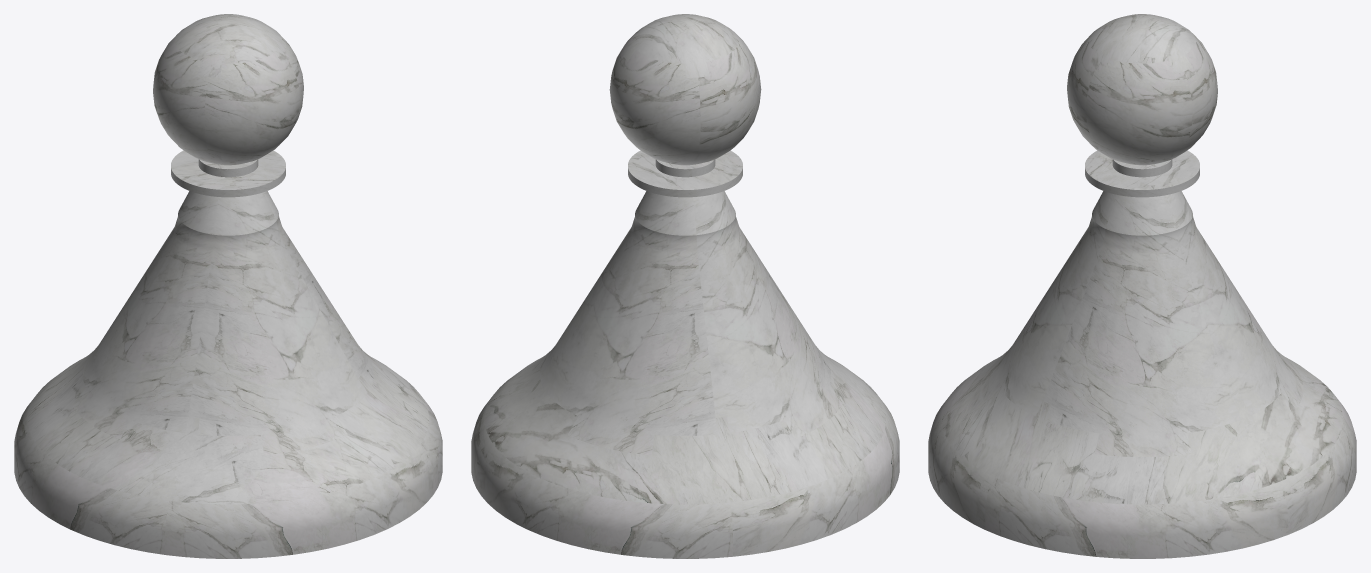
The model's file is ALL.gltf.
3 views of the same model, side by side, from view 1: azimuth 30°, elevation 25°; view 2: azimuth 150°, elevation 25°; view 3: azimuth 270°, elevation 25° (orthographic).
Parts seen in each view (by area): view 1: PawnBlack.001; view 2: PawnBlack.001; view 3: PawnBlack.001.
Part boxes in pixels (x1,y1,x2,y2): PawnBlack.001: [14, 14, 442, 558]; PawnBlack.001: [471, 14, 899, 558]; PawnBlack.001: [928, 14, 1356, 558].
Bounding box in the file's own units: 0.0213 × 0.0245 × 0.0213.
1 material, 1 textured.
